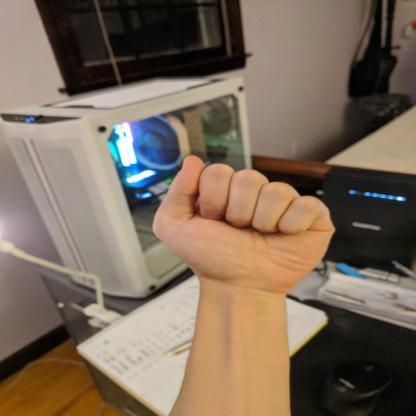A: (146, 152, 342, 294)
